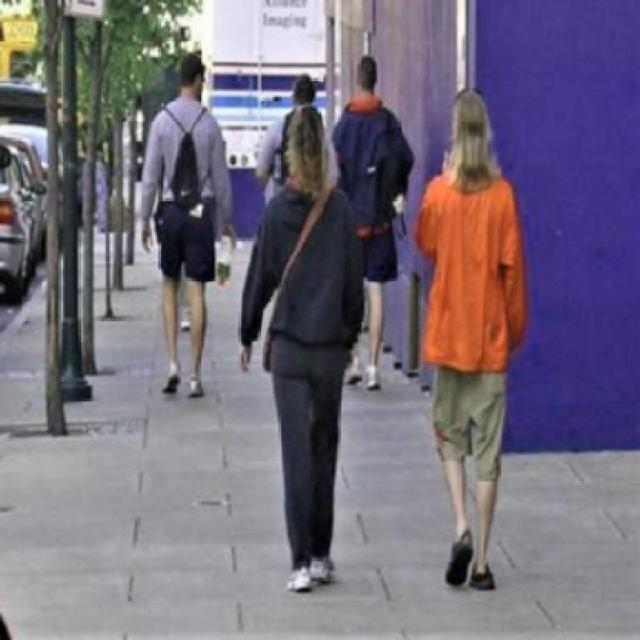Person: (241, 110, 359, 596), (421, 88, 532, 595), (131, 50, 234, 399), (338, 45, 414, 390), (258, 70, 332, 196)
